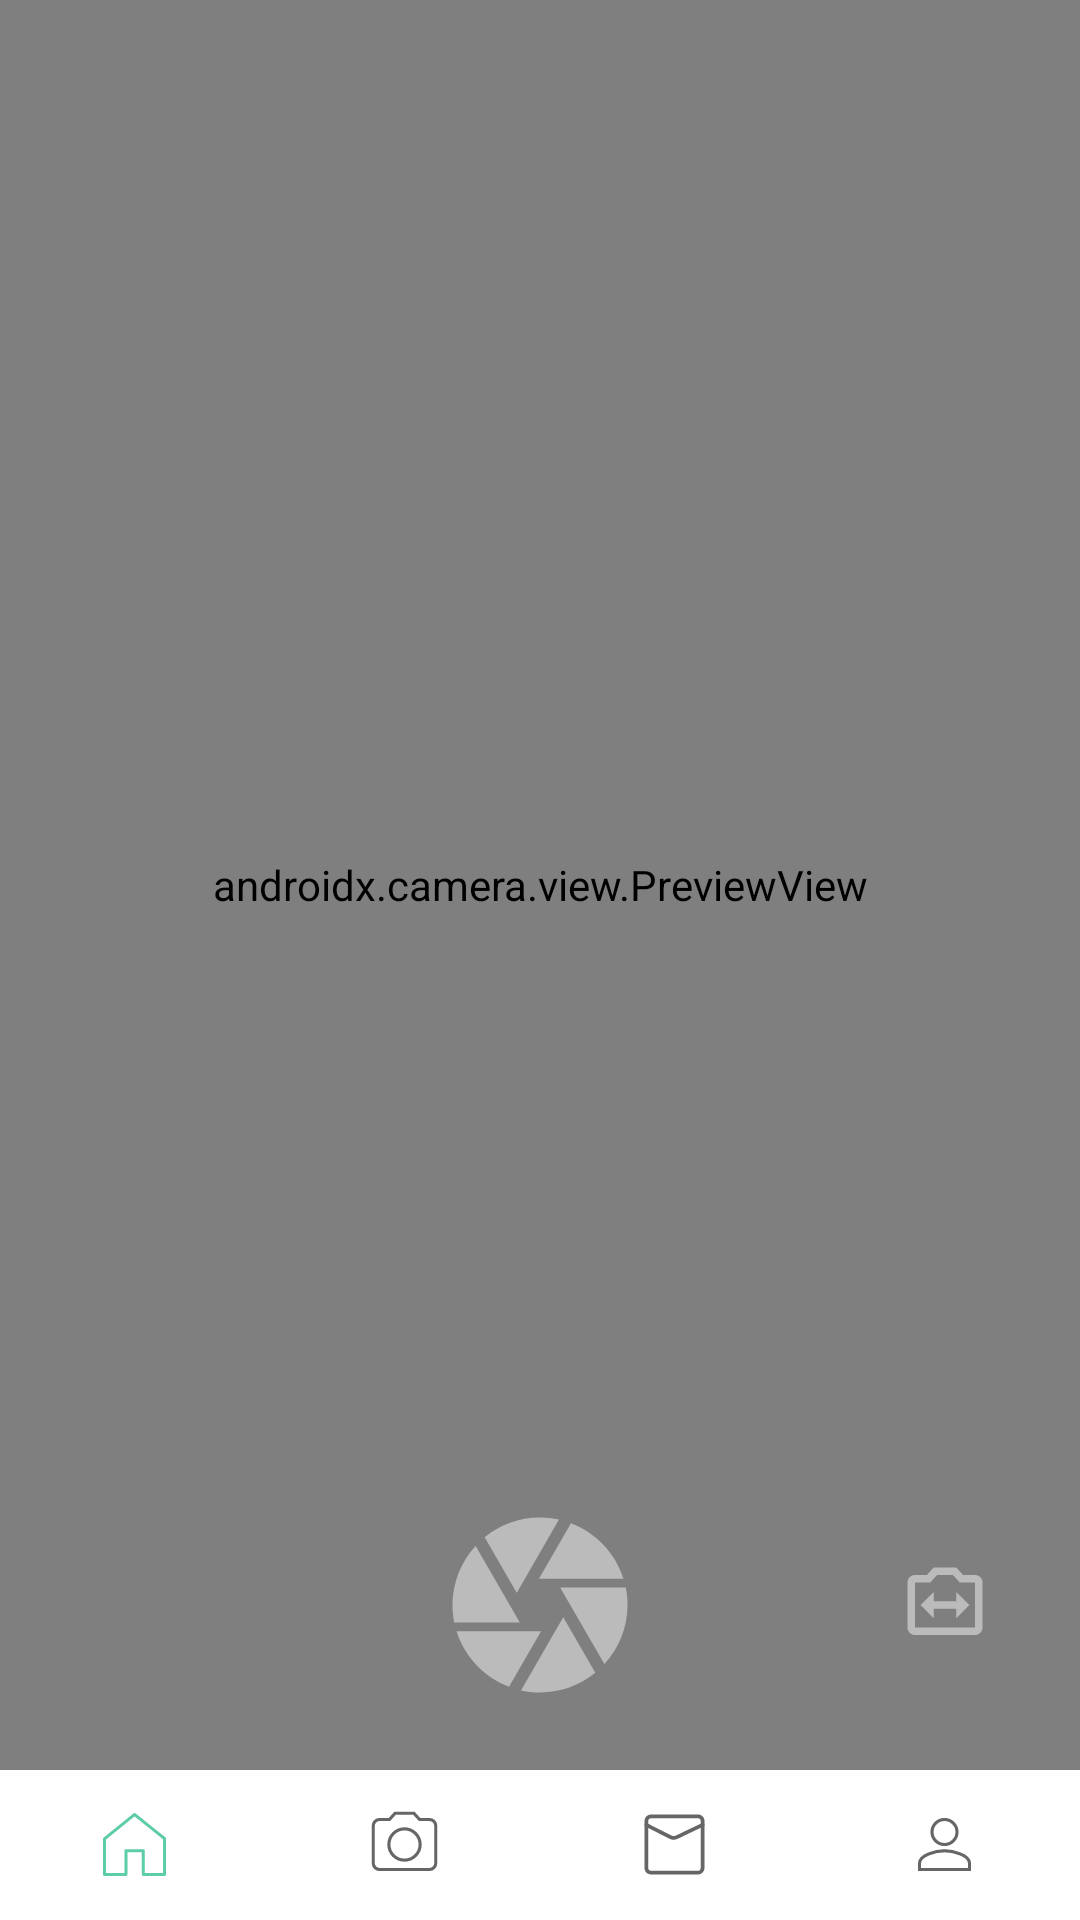

Icons on this 1080px x 1920px Android screen, each with the point to tap as [x,y]:
capture: [540,1605]
frontcam: [945,1601]
